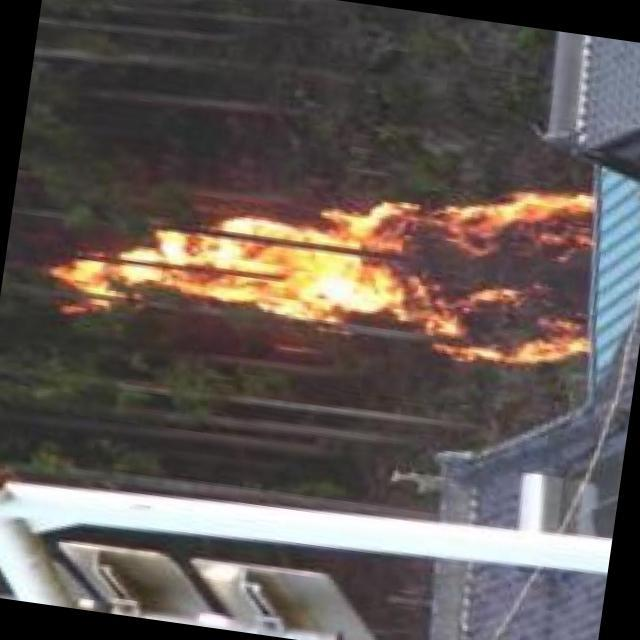Fire: (71, 124, 607, 378)
